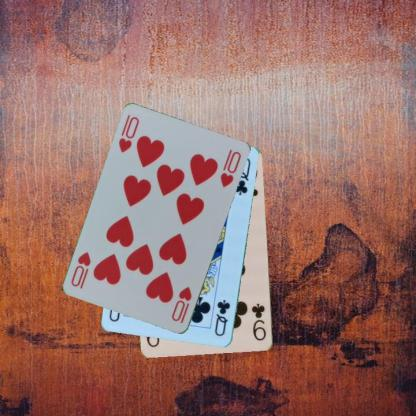10h: (168, 284, 194, 325), (116, 115, 141, 154)
9c: (249, 300, 268, 342)
Qc: (212, 298, 232, 338)
